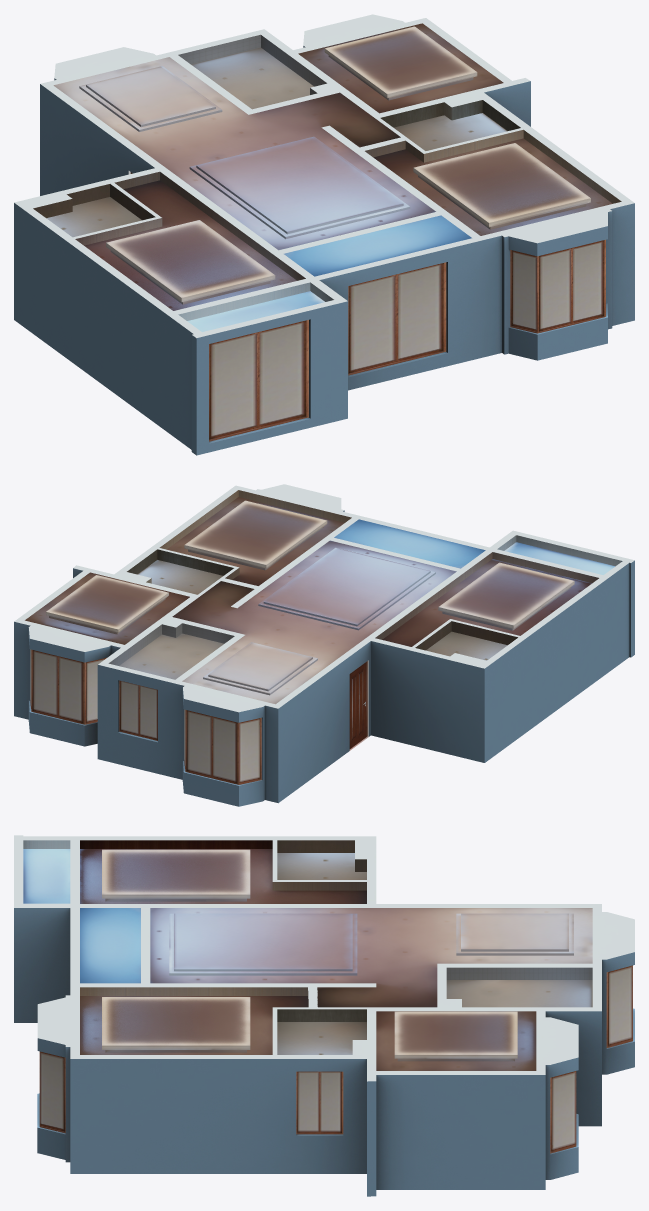
The model's file is all.DAE.
The picture shows the model from 3 angles, top to bottom: view 1: azimuth 30°, elevation 25°; view 2: azimuth 150°, elevation 25°; view 3: azimuth 270°, elevation 25°; orthographic projection. The views are drawn at different scales.
Parts seen in each view (by area): view 1: waiqiang, diaoding1, diaoding2, window, neiqiang4, neiqiang3, neiqiang2; view 2: waiqiang, diaoding1, diaoding2, window, neiqiang4, neiqiang3, neiqiang2, door; view 3: waiqiang, diaoding1, diaoding2, window, neiqiang4, neiqiang2, beijingqiang, neiqiang3.
Boxes of the visible parts, x1=… form: waiqiang: x1=14, y1=14, x2=634, y2=455; diaoding1: x1=53, y1=47, x2=471, y2=276; diaoding2: x1=46, y1=23, x2=612, y2=331; window: x1=209, y1=239, x2=605, y2=441; neiqiang4: x1=33, y1=34, x2=520, y2=220; neiqiang3: x1=75, y1=171, x2=333, y2=320; neiqiang2: x1=365, y1=129, x2=621, y2=203; waiqiang: x1=14, y1=484, x2=634, y2=806; diaoding1: x1=119, y1=519, x2=485, y2=704; diaoding2: x1=25, y1=497, x2=614, y2=660; window: x1=30, y1=649, x2=261, y2=784; neiqiang4: x1=108, y1=549, x2=517, y2=665; neiqiang3: x1=375, y1=535, x2=620, y2=639; neiqiang2: x1=159, y1=490, x2=351, y2=579; door: x1=349, y1=661, x2=367, y2=748; waiqiang: x1=14, y1=835, x2=634, y2=1196; diaoding1: x1=80, y1=908, x2=592, y2=1007; diaoding2: x1=23, y1=849, x2=536, y2=1070; window: x1=39, y1=965, x2=632, y2=1153; neiqiang4: x1=277, y1=840, x2=592, y2=1021; neiqiang2: x1=80, y1=987, x2=308, y2=1006; beijingqiang: x1=80, y1=840, x2=272, y2=848; neiqiang3: x1=23, y1=840, x2=366, y2=890.
Bounding box in the file's own units: 1238 × 1320 × 288.
Materials: 38 (38 with a texture image).
